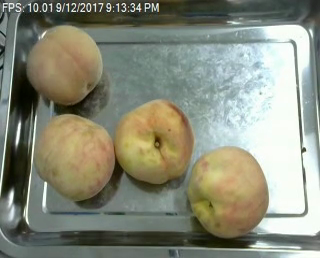Peach: (187, 144, 269, 238), (33, 113, 115, 200), (116, 98, 195, 184), (26, 24, 104, 105)
